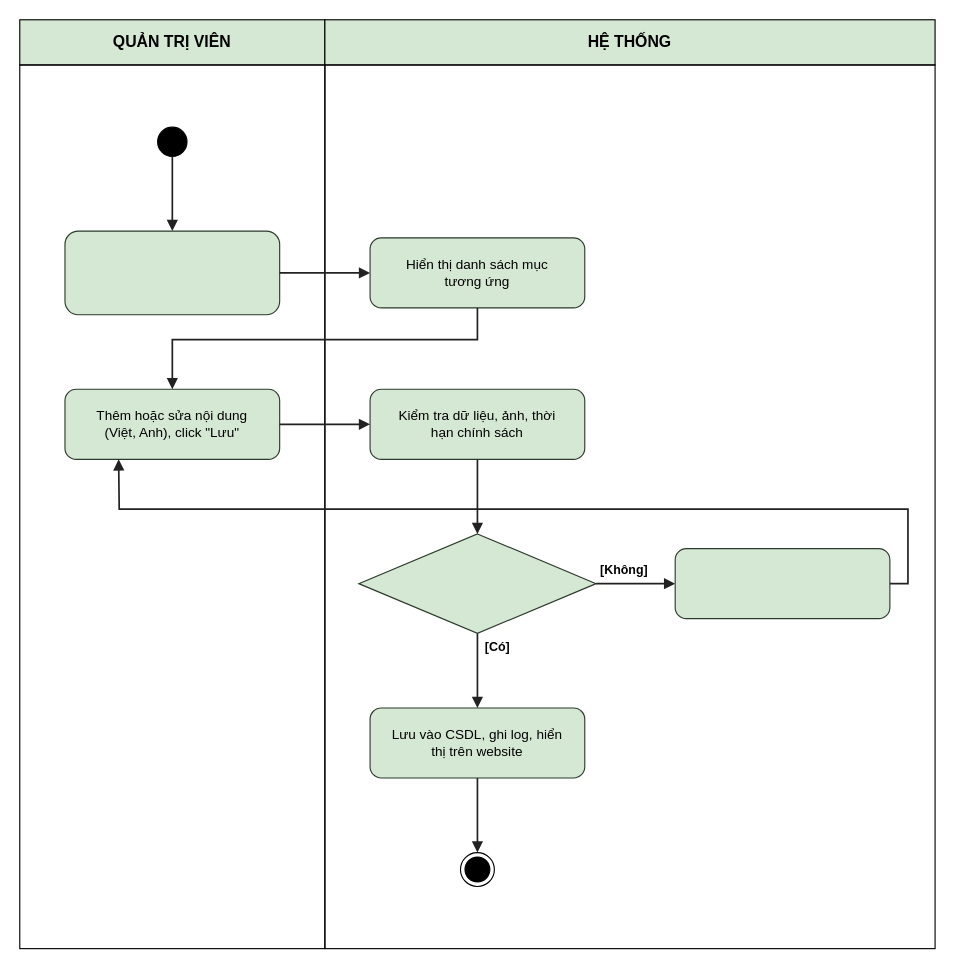
The diagram is 955 pixels wide and 968 high, and some of its shapes have lost their labels. The shapes that lost their labels are listed below. From the top down, each one's box as (x1, y1, x2, y2) in pixels, then its label:
(64, 230, 280, 315): Vào "Quản lý nội dung", chọn Banner, Trang tĩnh, Chính sách hoặc Cửa hàng
(358, 533, 596, 633): Dữ liệu hợp lệ?
(674, 547, 890, 619): Thông báo lỗi upload, thiếu nội dung hoặc thời hạn sai
